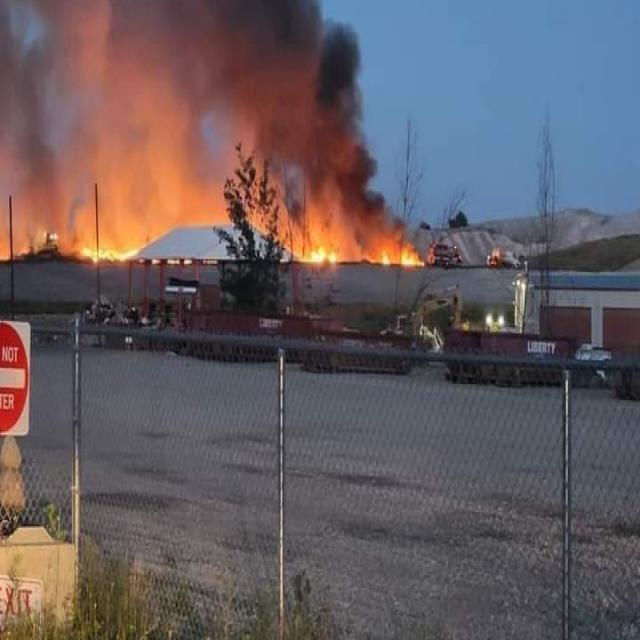Fire: (74, 233, 144, 270), (300, 233, 353, 272)
Smoke: (1, 0, 418, 263)
